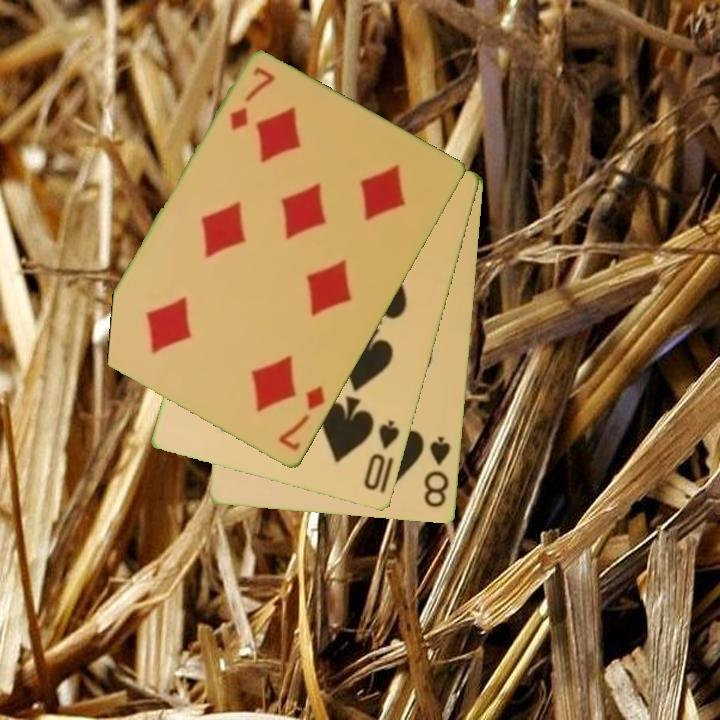10s: (360, 417, 403, 494)
7d: (275, 382, 329, 454), (226, 64, 278, 135)
8s: (421, 433, 454, 511)
